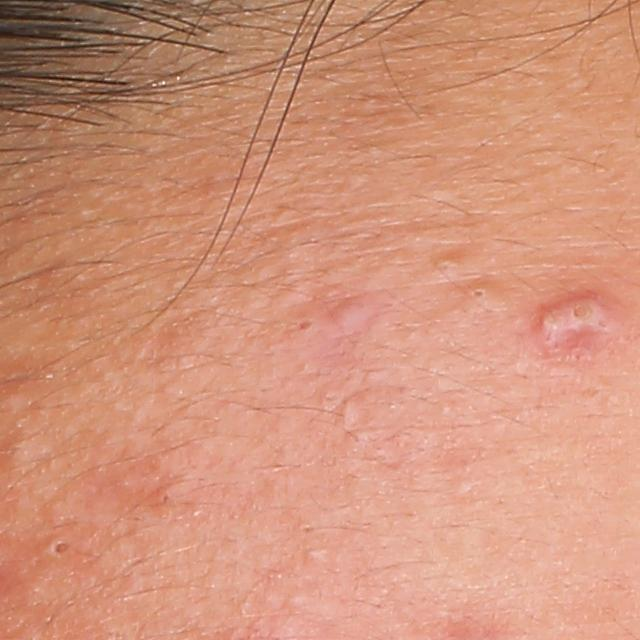comedo: (0, 433, 41, 465), (464, 282, 502, 312), (42, 534, 77, 561), (287, 313, 320, 341), (336, 395, 362, 427)
papule: (325, 292, 391, 344)
